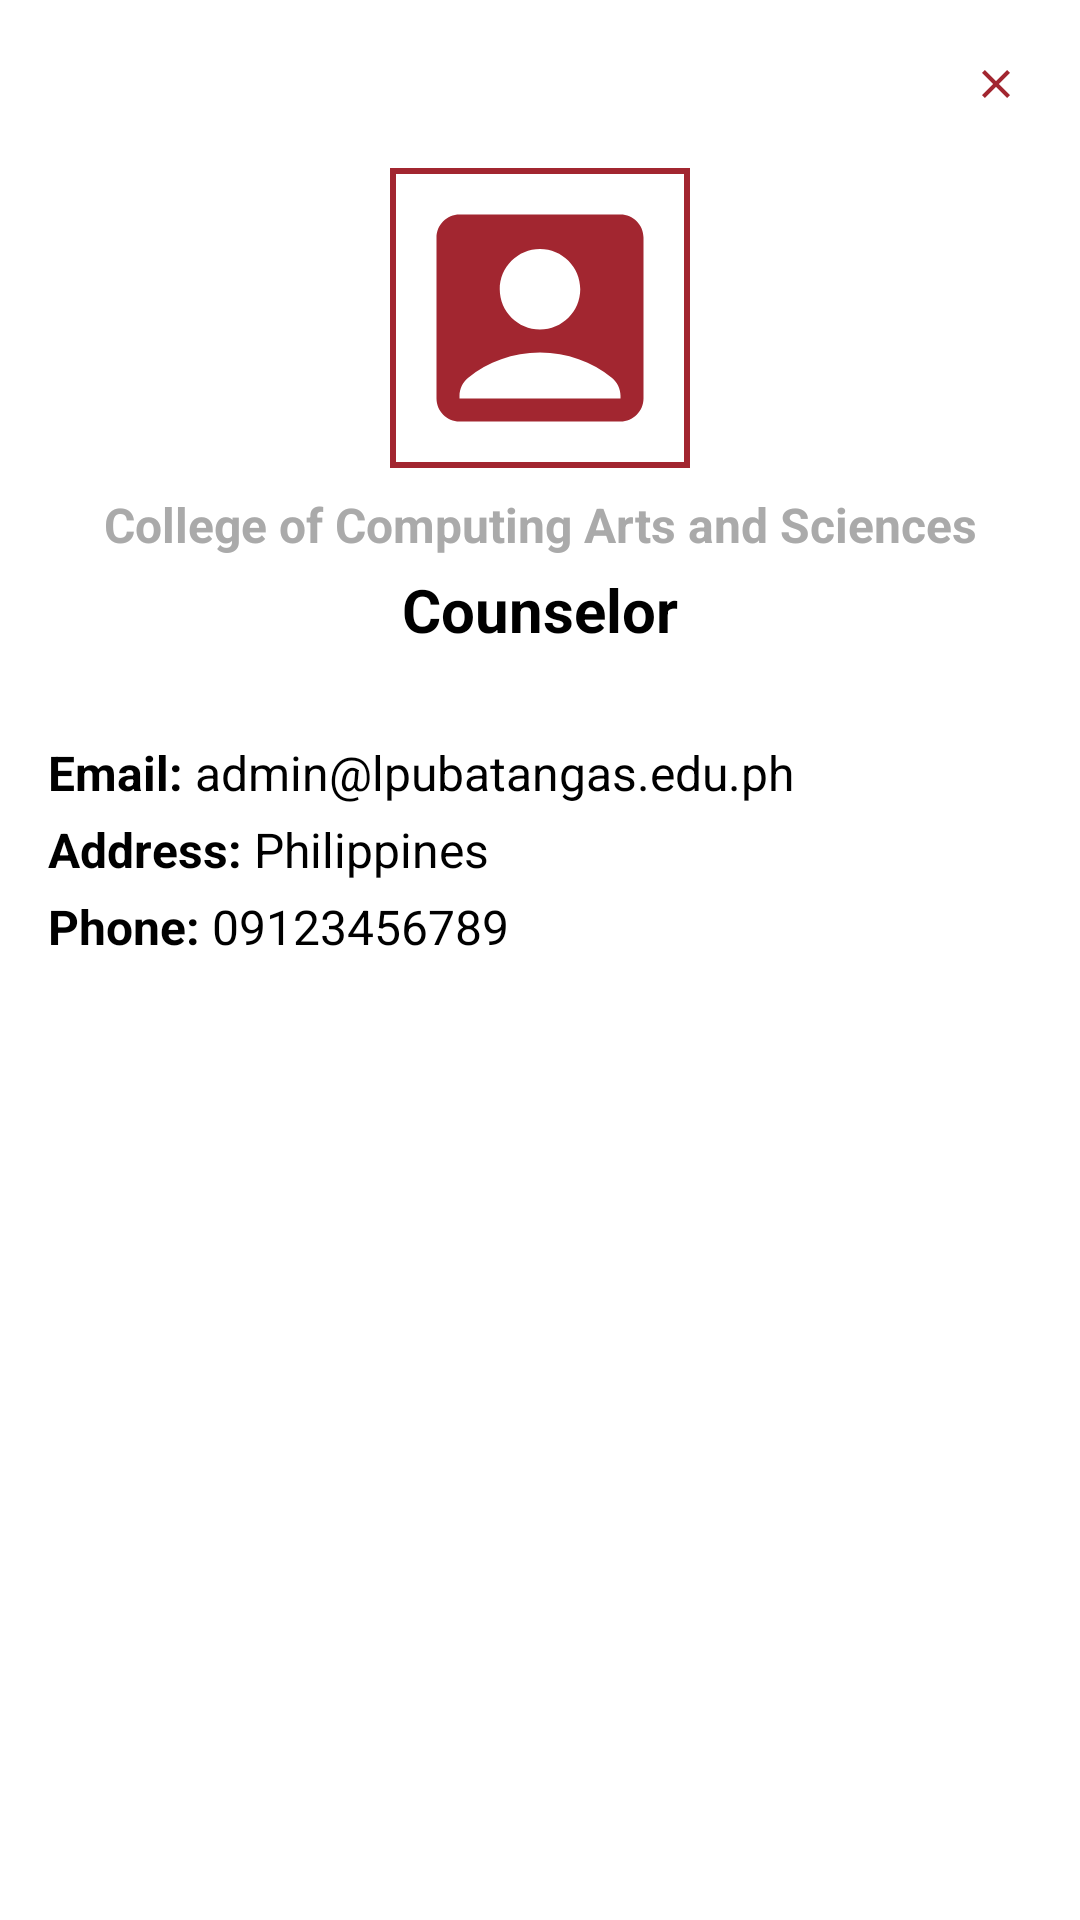

Where icons sit on this 1080*1920 app screen, as (x1, y1, x2, y2):
close: (982, 70, 1010, 98)
user box: (390, 168, 690, 468)
